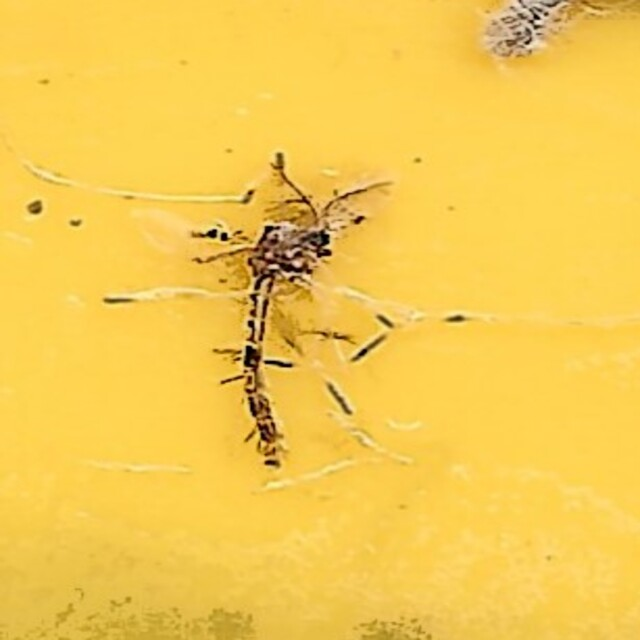Nematocera: (208, 166, 432, 474)
